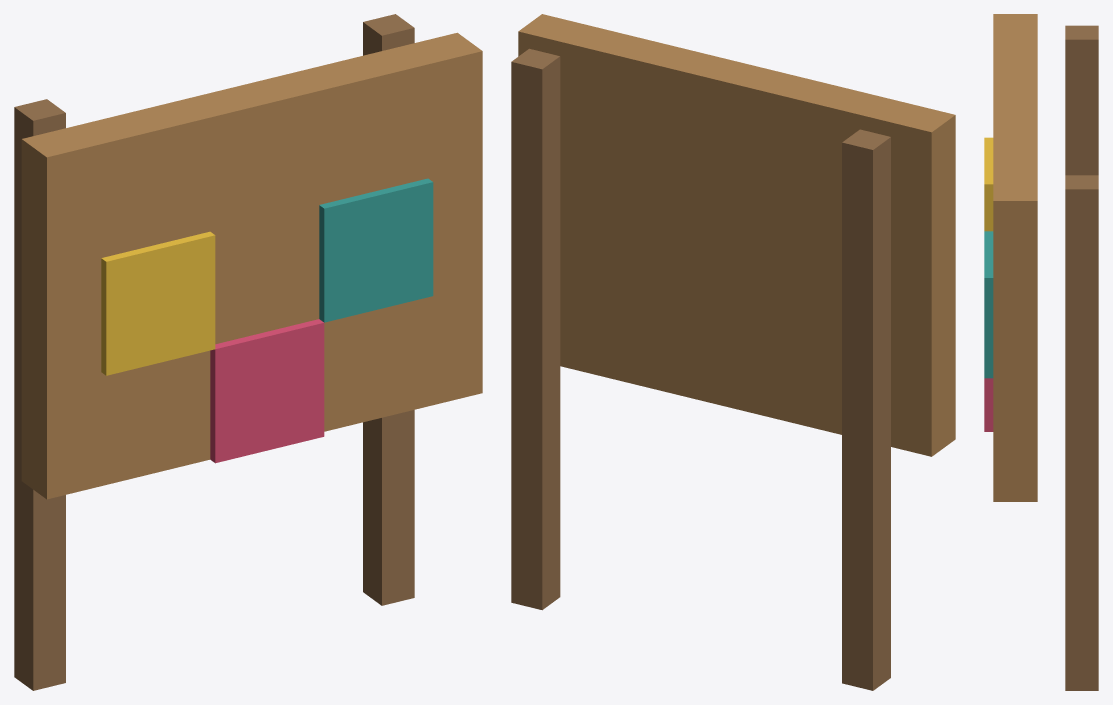
File: prop_selfservice_p2.glb
3 views of the same model, side by side, from view 1: azimuth 30°, elevation 25°; view 2: azimuth 150°, elevation 25°; view 3: azimuth 270°, elevation 25° (orthographic). The views are drawn at different scales.
Visible parts, largest first — view 1: prop_selfservice_p2_mesh; view 2: prop_selfservice_p2_mesh; view 3: prop_selfservice_p2_mesh.
Boxes of the visible parts, x1,y1,x2,y2 form: prop_selfservice_p2_mesh: (14,14,482,690); prop_selfservice_p2_mesh: (511,14,955,690); prop_selfservice_p2_mesh: (984,14,1098,690).
Bounding box in the file's own units: 0.2 × 0.25 × 0.0515.
